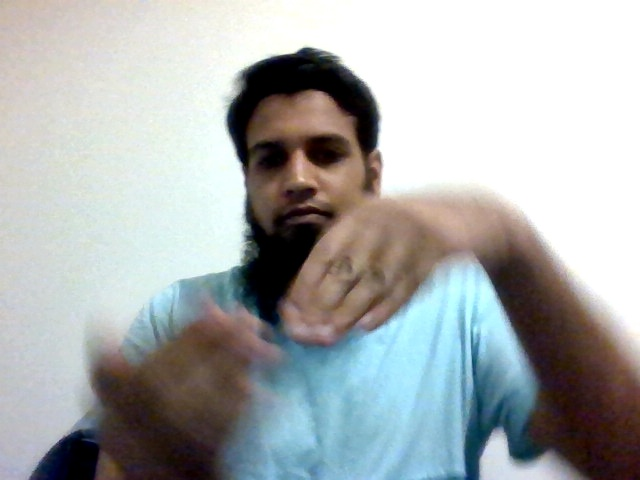again: (74, 182, 509, 479)
